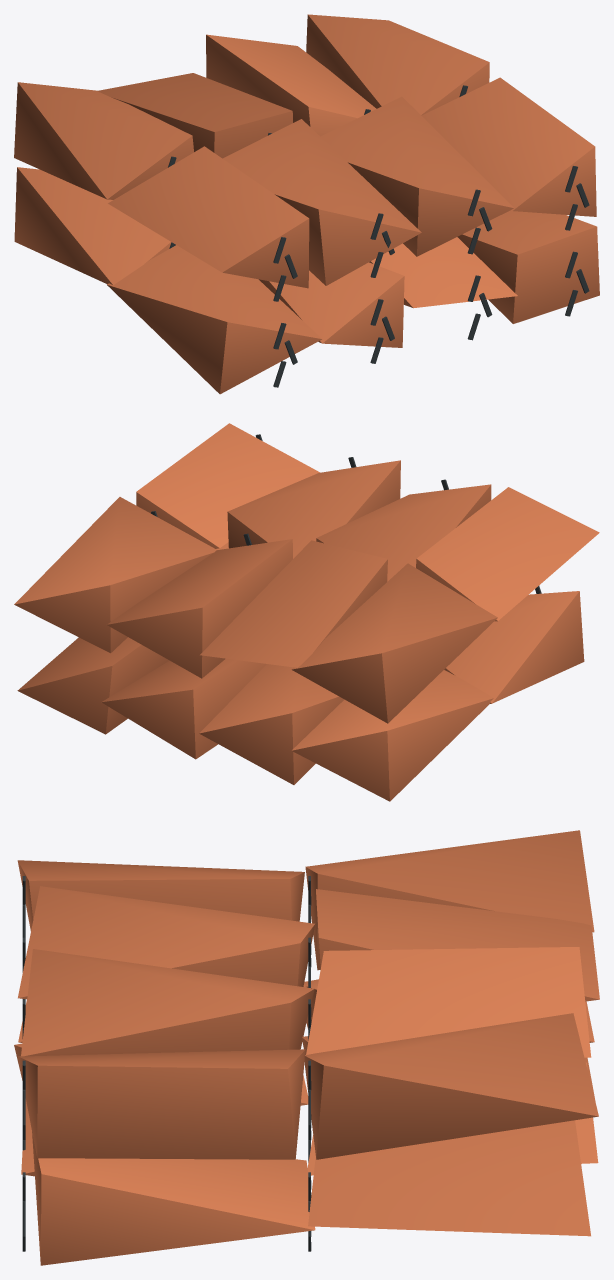
File: BSC-08-LOD1.glb
The picture shows the model from 3 angles, top to bottom: view 1: azimuth 30°, elevation 25°; view 2: azimuth 150°, elevation 25°; view 3: azimuth 270°, elevation 25°; orthographic projection. The views are drawn at different scales.
Visible parts, largest first — view 1: hand-shaped masonry, hand-shaped masonry.008, hand-shaped masonry.014, hand-shaped masonry.009, hand-shaped masonry.012, hand-shaped masonry.010, hand-shaped masonry.015, hand-shaped masonry.001, hand-shaped masonry.006, hand-shaped masonry.013, hand-shaped masonry.011, hand-shaped masonry.002 (+1 smaller); view 2: hand-shaped masonry.009, hand-shaped masonry.015, hand-shaped masonry.008, hand-shaped masonry.011, hand-shaped masonry.001, hand-shaped masonry.013, hand-shaped masonry.014, hand-shaped masonry, hand-shaped masonry.003, hand-shaped masonry.012, hand-shaped masonry.005, hand-shaped masonry.007 (+1 smaller); view 3: hand-shaped masonry.015, hand-shaped masonry.014, hand-shaped masonry.007, hand-shaped masonry.006, hand-shaped masonry.012, hand-shaped masonry.013, hand-shaped masonry.010, hand-shaped masonry.009, hand-shaped masonry.011, hand-shaped masonry.008, hand-shaped masonry.005, hand-shaped masonry.004.
Boxes of the visible parts, left/top/right/bottom form: hand-shaped masonry: left=107, top=245, right=322, bottom=394; hand-shaped masonry.008: left=108, top=146, right=309, bottom=288; hand-shaped masonry.014: left=422, top=77, right=596, bottom=216; hand-shaped masonry.009: left=14, top=82, right=193, bottom=199; hand-shaped masonry.012: left=320, top=96, right=513, bottom=256; hand-shaped masonry.010: left=222, top=119, right=421, bottom=285; hand-shaped masonry.015: left=306, top=14, right=489, bottom=115; hand-shaped masonry.001: left=14, top=167, right=171, bottom=284; hand-shaped masonry.006: left=457, top=210, right=599, bottom=323; hand-shaped masonry.013: left=206, top=34, right=376, bottom=136; hand-shaped masonry.011: left=98, top=73, right=292, bottom=158; hand-shaped masonry.002: left=259, top=262, right=404, bottom=347; hand-shaped masonry.009: left=291, top=563, right=497, bottom=723; hand-shaped masonry.015: left=14, top=497, right=216, bottom=653; hand-shaped masonry.008: left=416, top=487, right=599, bottom=621; hand-shaped masonry.011: left=200, top=540, right=387, bottom=667; hand-shaped masonry.001: left=291, top=670, right=493, bottom=801; hand-shaped masonry.013: left=107, top=539, right=292, bottom=678; hand-shaped masonry.014: left=136, top=423, right=319, bottom=548; hand-shaped masonry: left=444, top=591, right=584, bottom=703; hand-shaped masonry.003: left=199, top=664, right=344, bottom=784; hand-shaped masonry.012: left=227, top=460, right=400, bottom=558; hand-shaped masonry.005: left=101, top=658, right=266, bottom=759; hand-shaped masonry.007: left=17, top=637, right=169, bottom=734; hand-shaped masonry.015: left=304, top=1013, right=598, bottom=1159; hand-shaped masonry.014: left=18, top=1049, right=305, bottom=1159; hand-shaped masonry.007: left=308, top=1120, right=590, bottom=1236; hand-shaped masonry.006: left=32, top=1132, right=315, bottom=1265; hand-shaped masonry.012: left=21, top=949, right=314, bottom=1056; hand-shaped masonry.013: left=306, top=947, right=591, bottom=1057; hand-shaped masonry.010: left=18, top=886, right=315, bottom=999; hand-shaped masonry.009: left=305, top=830, right=594, bottom=970; hand-shaped masonry.011: left=316, top=889, right=599, bottom=1001; hand-shaped masonry.008: left=17, top=860, right=304, bottom=930; hand-shaped masonry.005: left=307, top=1062, right=598, bottom=1175; hand-shaped masonry.004: left=21, top=1099, right=34, bottom=1176.
Bounding box in the file's own units: 1.97 × 0.7709 × 1.93.
